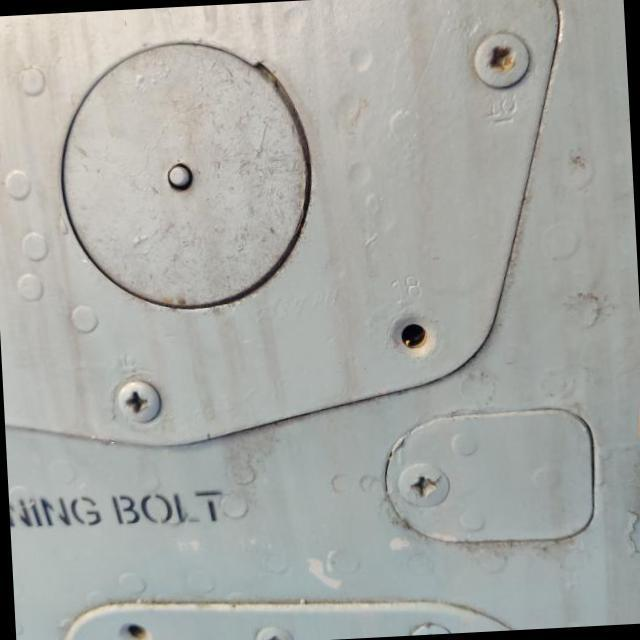Fastener Damage: (368, 293, 465, 390), (102, 601, 166, 640)
